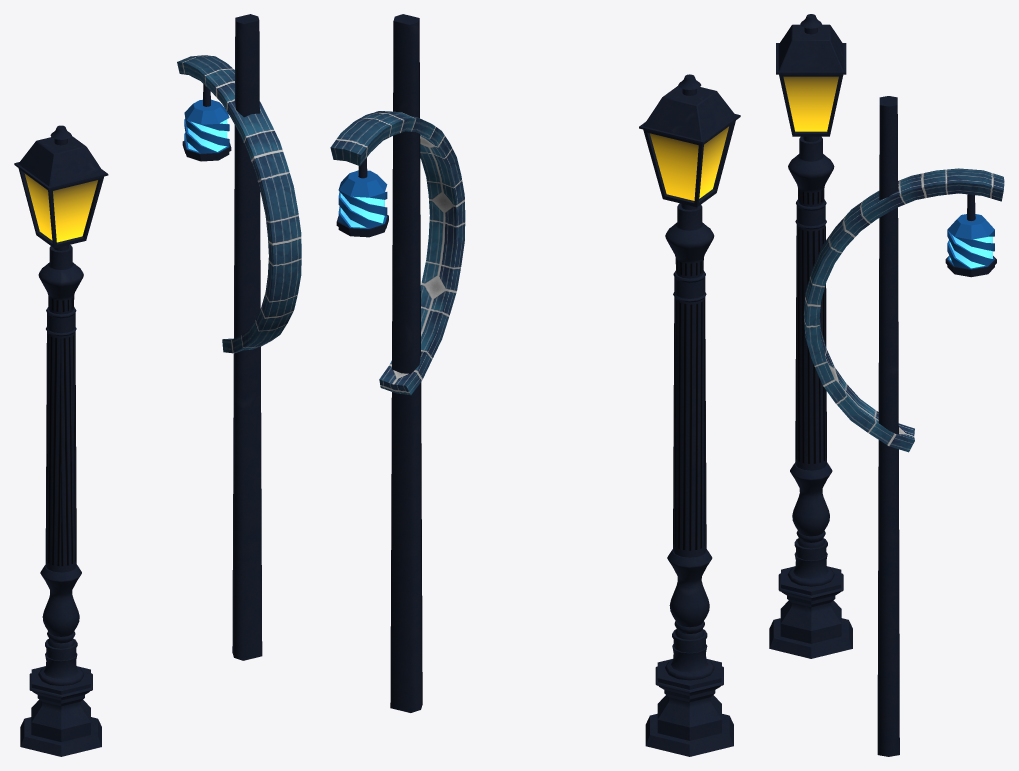
Rendered from props_light.fbx.
3 views of the same model, side by side, from view 1: azimuth 30°, elevation 25°; view 2: azimuth 150°, elevation 25°; view 3: azimuth 270°, elevation 25° (orthographic). The views are drawn at different scales.
Parts seen in each view (by area): view 1: m_SH_Streetlight_001, m_SH_Streetlight_002; view 2: m_SH_Streetlight_001, m_SH_Streetlight_002; view 3: m_SH_Streetlight_001, m_SH_Streetlight_002.
Boxes of the visible parts, <box> form: m_SH_Streetlight_001: <box>177,14,301,660</box>; m_SH_Streetlight_002: <box>14,125,108,756</box>; m_SH_Streetlight_001: <box>330,14,465,712</box>; m_SH_Streetlight_002: <box>639,74,740,756</box>; m_SH_Streetlight_001: <box>803,96,1004,756</box>; m_SH_Streetlight_002: <box>769,14,852,658</box>.
Bounding box in the file's own units: 3.21 × 6.79 × 2.23.
